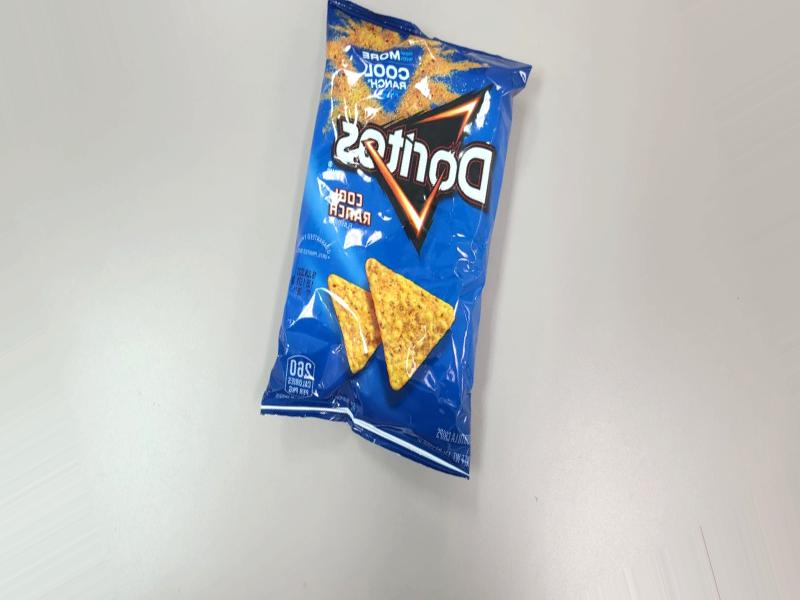doritos: (304, 0, 498, 487)
